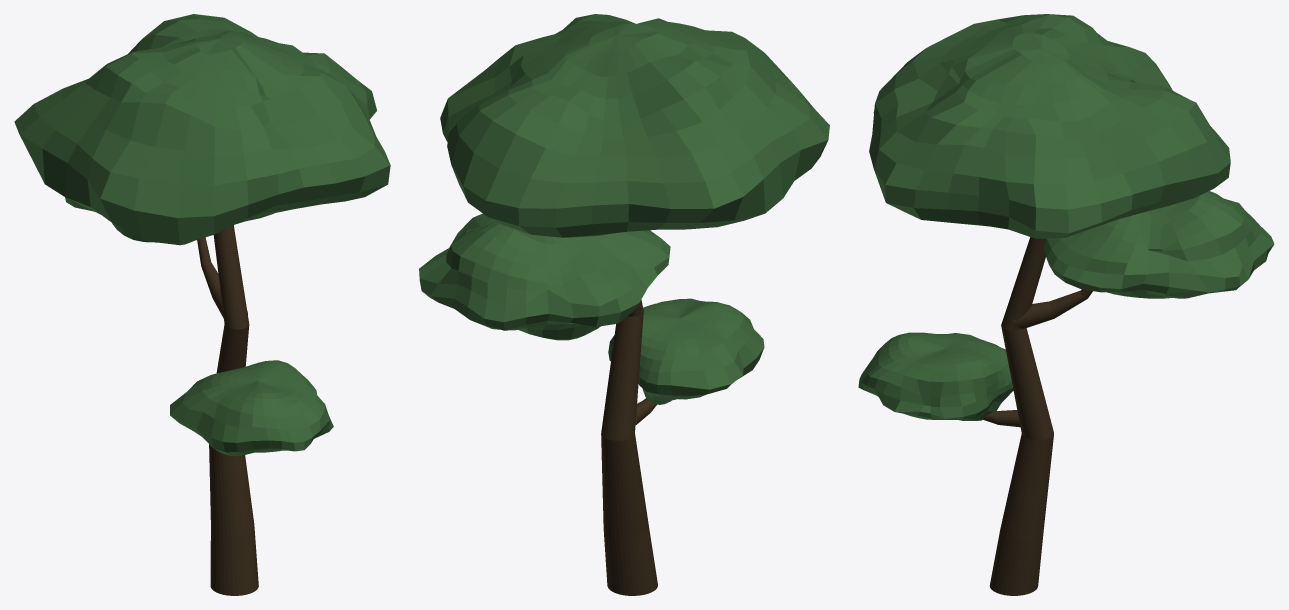
The model's file is Tree6.fbx.
3 views of the same model, side by side, from view 1: azimuth 30°, elevation 25°; view 2: azimuth 150°, elevation 25°; view 3: azimuth 270°, elevation 25° (orthographic). The views are drawn at different scales.
Parts seen in each view (by area): view 1: Tree6_LOD0; view 2: Tree6_LOD0; view 3: Tree6_LOD0.
Part boxes in pixels (x1,y1,x2,y2): Tree6_LOD0: (14,14,390,595); Tree6_LOD0: (419,14,829,595); Tree6_LOD0: (858,14,1274,595).
Size of what is drawn, in the model's own units: 391 by 635 by 444.
